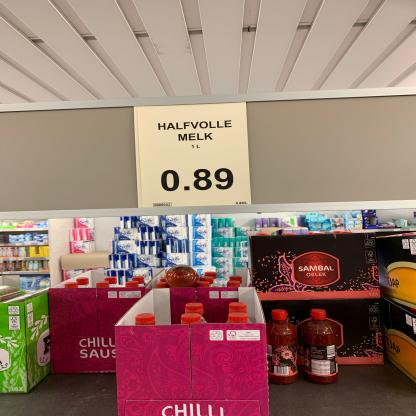prtg: (133, 103, 254, 210)
